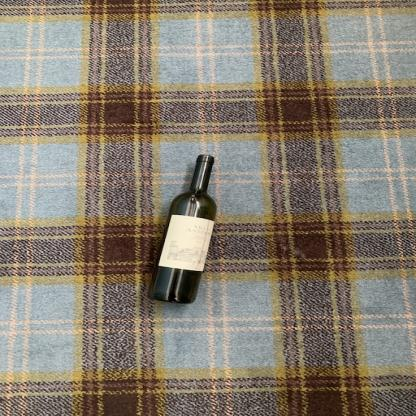trash: (146, 153, 220, 306)
